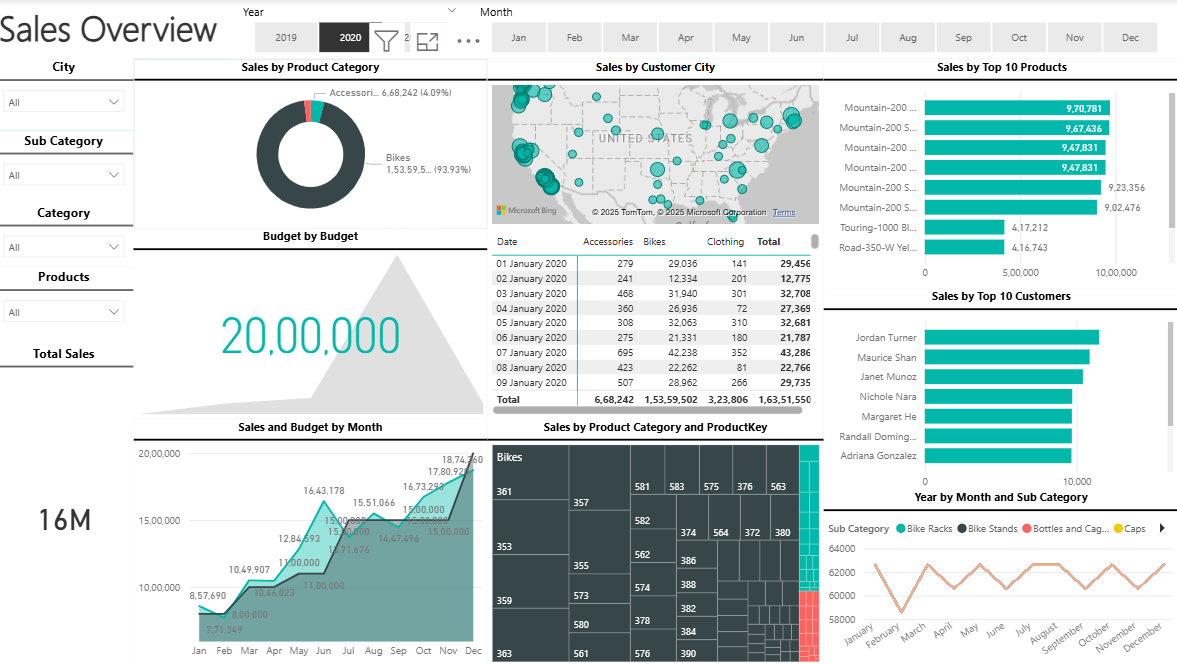

Layout of this report page (visuals, bound fields, positions):
{"tool":"powerbi","page":{"name":"Sales Overview","canvas":[1280,720],"ordinal":0},"visuals":[{"type":"textbox","box":[0,0,1280,64],"z":0},{"type":"slicer","fields":{"Values":["DIM_Calendar.Year"]},"box":[256,0,256,64],"z":1000},{"type":"slicer","fields":{"Values":["DIM_Calendar.MonthShort"]},"box":[512,0,768,64],"z":2000},{"type":"slicer","title":"City","fields":{"Values":["DIM_Customers.Customer City"]},"box":[0,63.1,150.6,77.7],"z":3000},{"type":"slicer","title":"Category","fields":{"Values":["DIM_Products.Product Category"]},"box":[0,220.2,150.6,69.6],"z":4000},{"type":"slicer","title":"Products","fields":{"Values":["DIM_Products.Product Name"]},"box":[0,289.8,150.6,82.6],"z":5000},{"type":"slicer","title":"Sub Category","fields":{"Values":["DIM_Products.Sub Category"]},"box":[0,142.5,150.6,77.7],"z":6000},{"type":"barChart","title":"Sales by Top 10 Products","fields":{"Category":["DIM_Products.Product Name"],"Y":["Analysis Metrics.Sales"]},"box":[894.6,64.8,385.4,247.7],"z":7000},{"type":"areaChart","fields":{"Category":["DIM_Calendar.MonthShort"],"Y":["Analysis Metrics.Sales","Analysis Metrics.Budget"]},"box":[150.6,453.4,382.1,267.2],"z":8000},{"type":"barChart","title":"Sales by Top 10 Customers","fields":{"Category":["DIM_Customers.Full Name"],"Y":["Analysis Metrics.Sales"]},"box":[895.4,312.5,383.8,225.1],"z":9000},{"type":"donutChart","fields":{"Y":["Analysis Metrics.Sales"],"Series":["DIM_Products.Product Category"]},"box":[150.6,64.8,382.1,183],"z":10000},{"type":"map","fields":{"Category":["DIM_Customers.Customer City"],"Size":["Analysis Metrics.Sales"]},"box":[532.7,64.8,362.7,183],"z":11000},{"type":"card","title":"Total Sales","fields":{"Values":["Analysis Metrics.Sales"]},"box":[0,372.4,150.6,348.1],"z":12000},{"type":"kpi","fields":{"Indicator":["Analysis Metrics.Budget"],"TrendLine":["FACT_Budget.Budget"]},"box":[150.6,247.7,382.1,205.6],"z":13000},{"type":"pivotTable","fields":{"Rows":["DIM_Calendar.Date"],"Values":["Analysis Metrics.Sales"],"Columns":["DIM_Products.Product Category"]},"box":[532.7,247.7,362.7,205.6],"z":14000},{"type":"lineChart","fields":{"Category":["DIM_Calendar.Month"],"Y":["Sum(DIM_Calendar.Year)"],"Series":["DIM_Products.Sub Category"]},"box":[895.4,529.5,383.8,191.1],"z":15000},{"type":"treemap","fields":{"Group":["DIM_Products.Product Category"],"Values":["Analysis Metrics.Sales"],"Details":["DIM_Products.ProductKey"]},"box":[532.7,453.4,362.7,267.2],"z":16000}]}

Visuals, with their boxes on the page's 1280x720 design canvas (x1, y1, x2, y2). These are canvas units, not pixel positions in the 1177x664 screenshot, which may show the page scaled, cropped or inside an application window:
textbox: (0, 0, 1280, 64)
slicer - DIM_Calendar.Year: (256, 0, 512, 64)
slicer - DIM_Calendar.MonthShort: (512, 0, 1280, 64)
"City" slicer: (0, 63, 151, 141)
"Category" slicer: (0, 220, 151, 290)
"Products" slicer: (0, 290, 151, 372)
"Sub Category" slicer: (0, 142, 151, 220)
"Sales by Top 10 Products" barChart: (895, 65, 1280, 312)
areaChart - DIM_Calendar.MonthShort x Analysis Metrics.Sales: (151, 453, 533, 721)
"Sales by Top 10 Customers" barChart: (895, 312, 1279, 538)
donutChart - Analysis Metrics.Sales x DIM_Products.Product Category: (151, 65, 533, 248)
map - DIM_Customers.Customer City x Analysis Metrics.Sales: (533, 65, 895, 248)
"Total Sales" card: (0, 372, 151, 720)
kpi - Analysis Metrics.Budget x FACT_Budget.Budget: (151, 248, 533, 453)
pivotTable - DIM_Calendar.Date x Analysis Metrics.Sales: (533, 248, 895, 453)
lineChart - DIM_Calendar.Month x Sum(DIM_Calendar.Year): (895, 530, 1279, 721)
treemap - DIM_Products.Product Category x Analysis Metrics.Sales: (533, 453, 895, 721)
